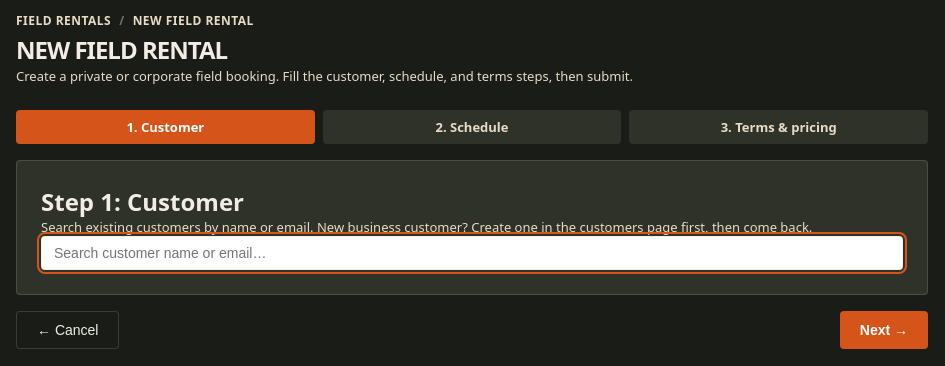
AdminFieldRentalNew › runs the debounced customer typeahead and shows results
The width and height of the screenshot is (945, 366).
Type "Ac" into the search field with placeholder "Search customer name or email…" at (472, 253), box [41, 236, 903, 270]
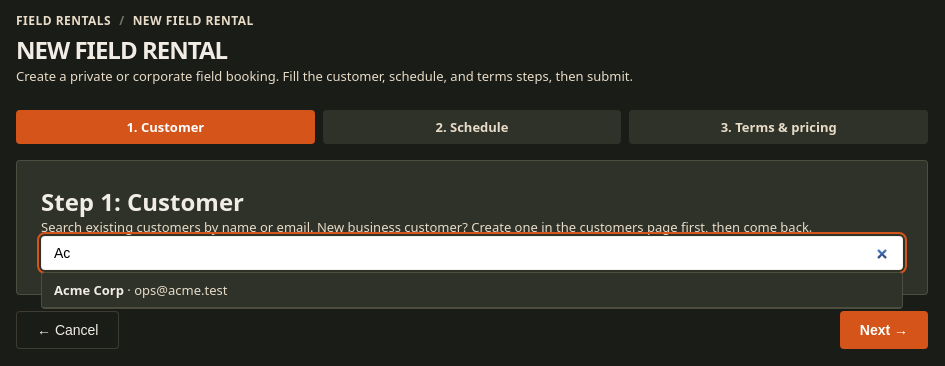
Expected: the text "Acme Corp" is shown, [54, 281, 124, 299]
